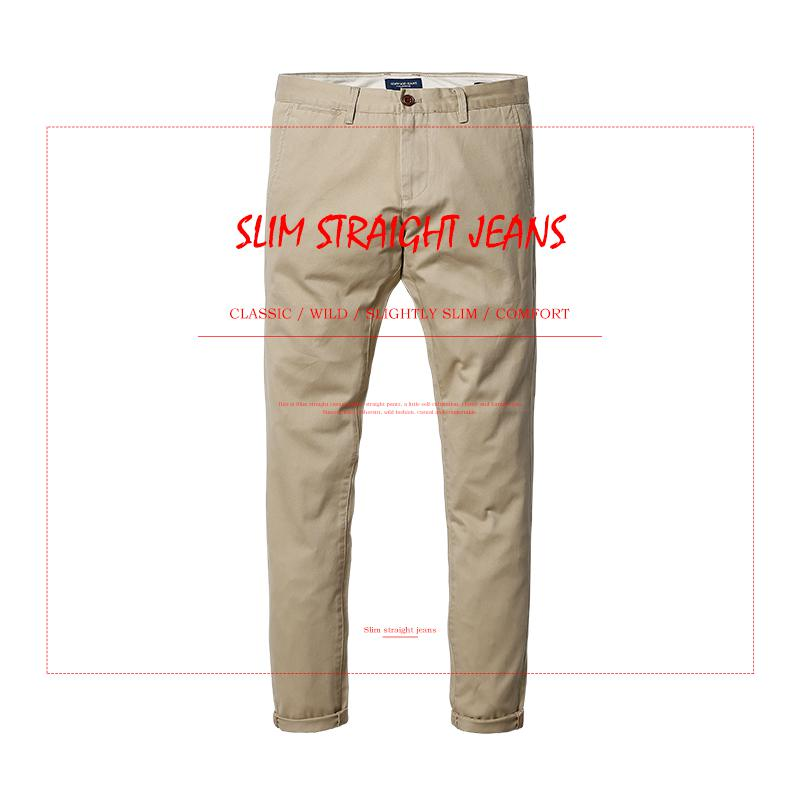pants: (263, 71, 532, 733)
